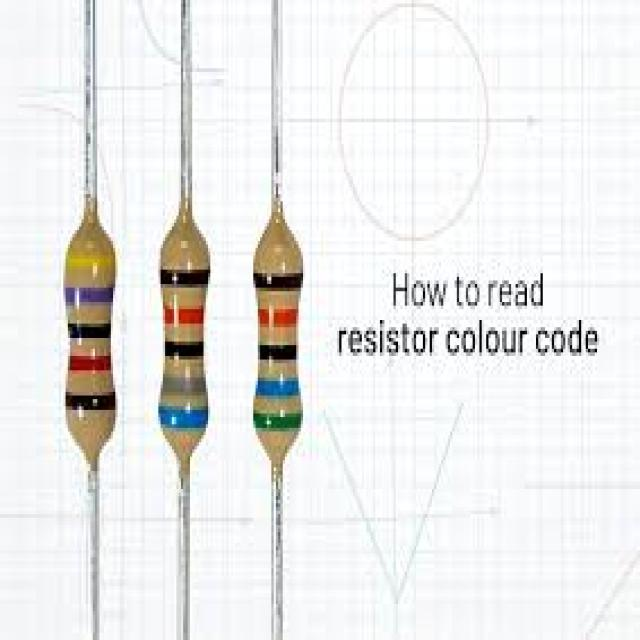Resistor: (158, 212, 208, 464), (253, 216, 301, 464), (66, 223, 115, 464)
black: (159, 267, 211, 286), (252, 272, 303, 288), (257, 346, 298, 362), (67, 322, 115, 334), (164, 340, 205, 354)
blue: (160, 409, 209, 429), (257, 378, 299, 394)
brown: (65, 391, 116, 411)
gray: (163, 374, 207, 393)
orange: (258, 308, 300, 328), (166, 308, 205, 326)
purple: (65, 285, 115, 302)
red: (68, 358, 110, 368)
yellow: (66, 253, 115, 270)
